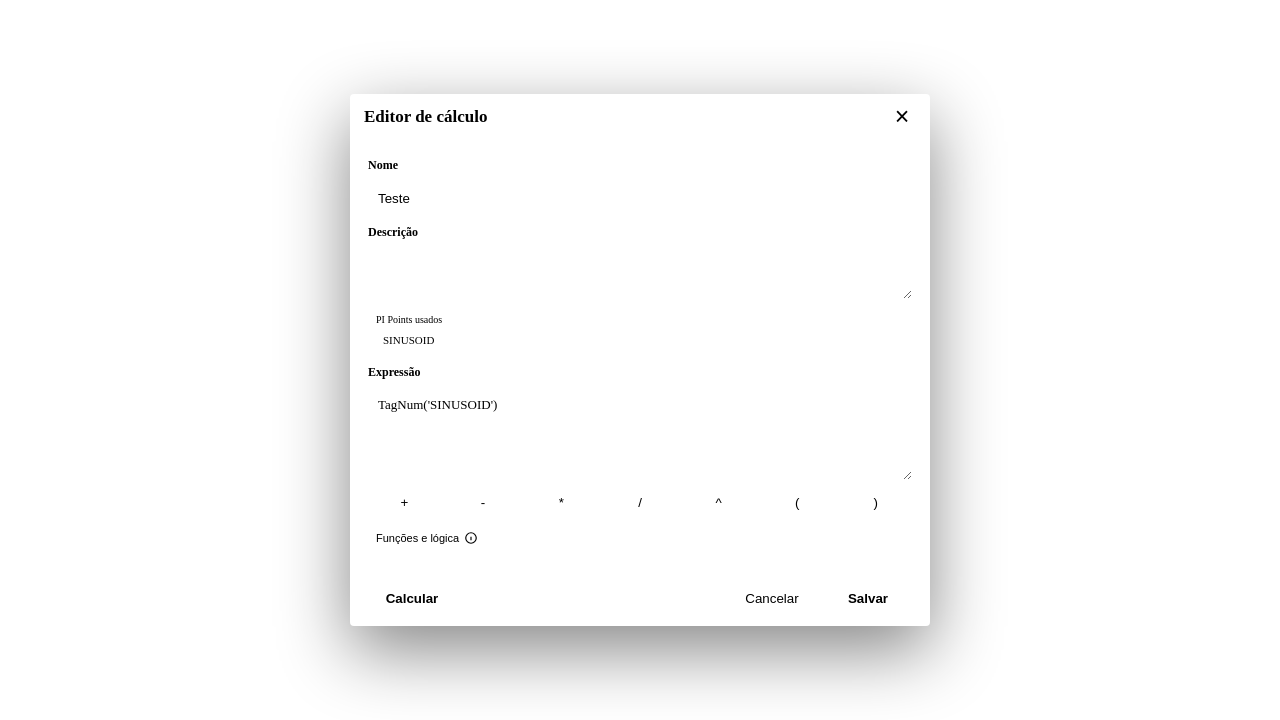
executa TagNum pelo executor de metadata sem enviar ao Controller
This screenshot has width=1280, height=720.
What coordinates should you click on to do the following:
click the button with test id "calculation-editor-execute"
I would click on:
 (412, 598)
Its box is x1=368 y1=582 x2=456 y2=614.
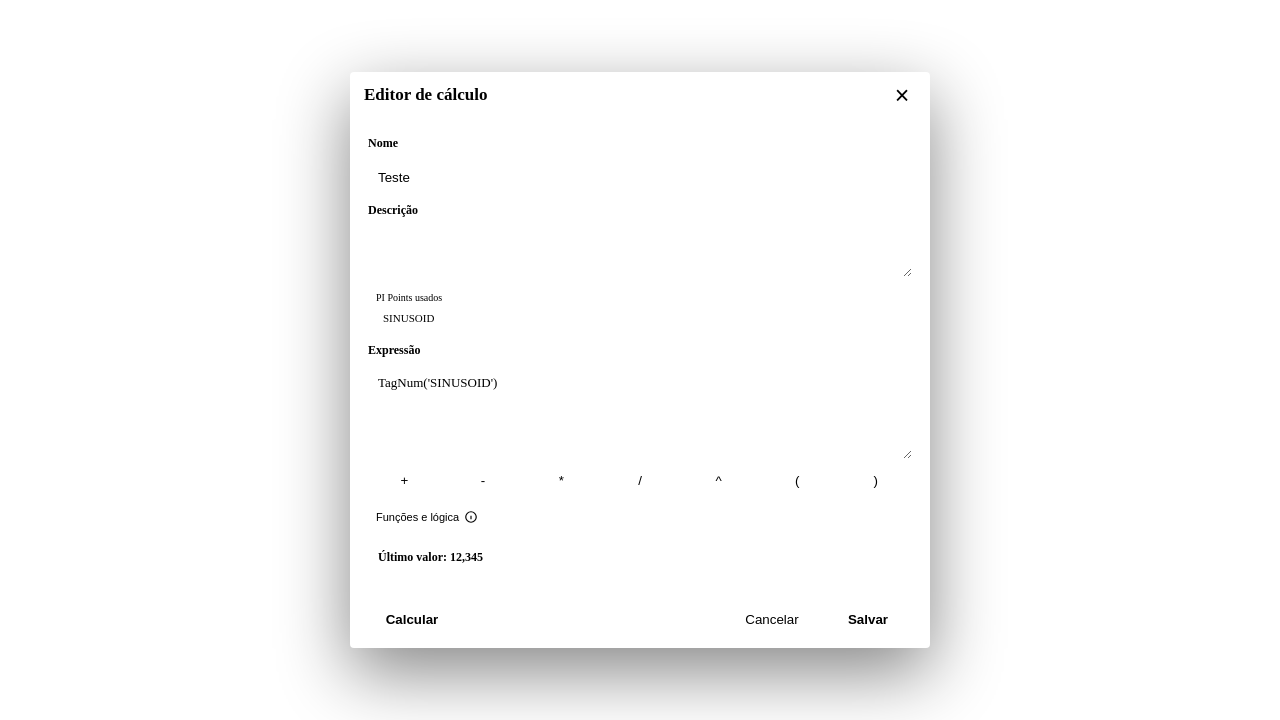
Check: the element with test id "calculation-editor-result" reads "Último valor: 12,345", box x1=378 y1=550 x2=483 y2=564
